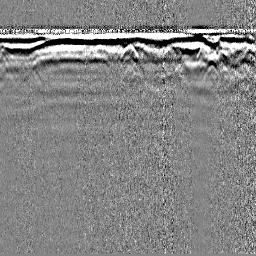cavity: (119, 41, 139, 60)
